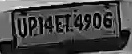0: (93, 11, 103, 31)
1: (37, 15, 46, 36)
4: (73, 12, 84, 36), (44, 15, 54, 36)
6: (103, 10, 113, 31)
9: (84, 12, 91, 33)
E: (53, 13, 65, 37)
P: (28, 16, 38, 37)
T: (64, 13, 72, 34)
U: (17, 16, 28, 40)
